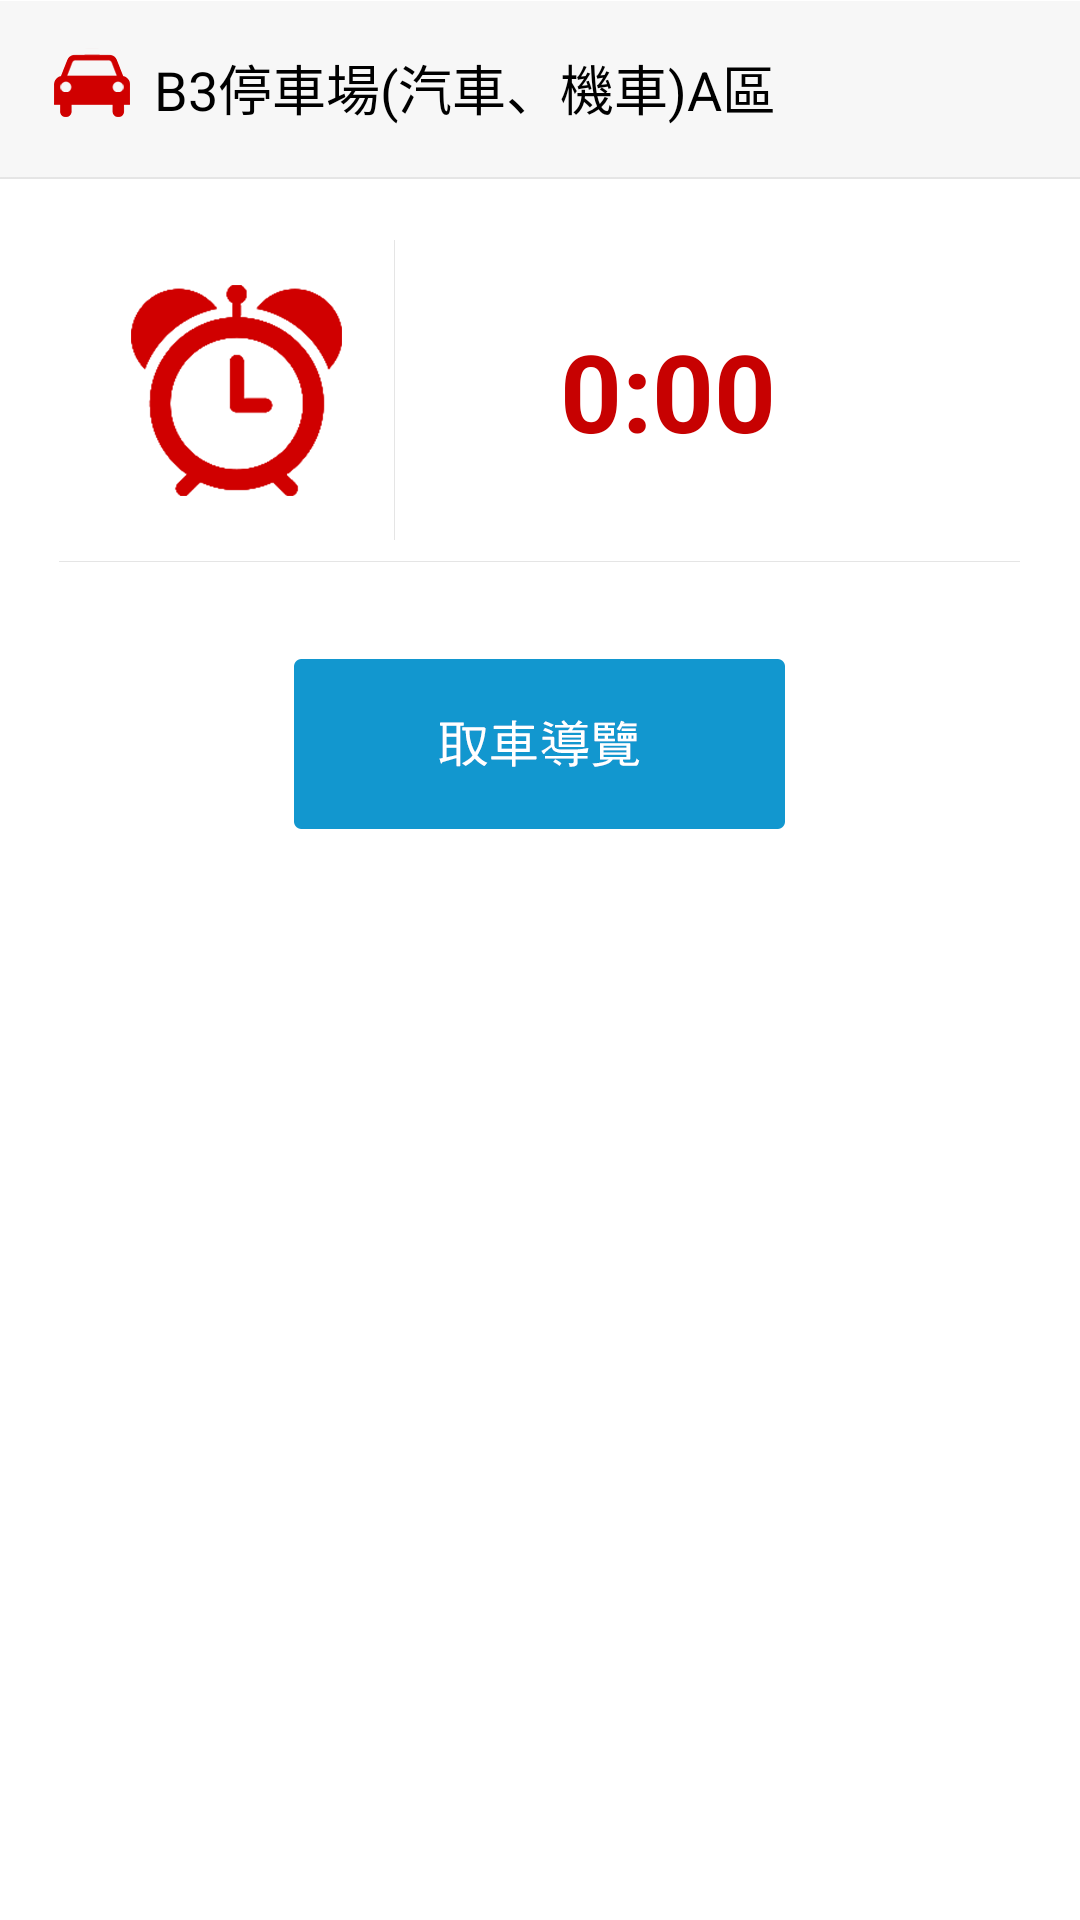

Screen size 1080px×1920px. Icon name, then its box in pixels as (x1, y1, x2, y2):
little car: (54, 54, 130, 117)
